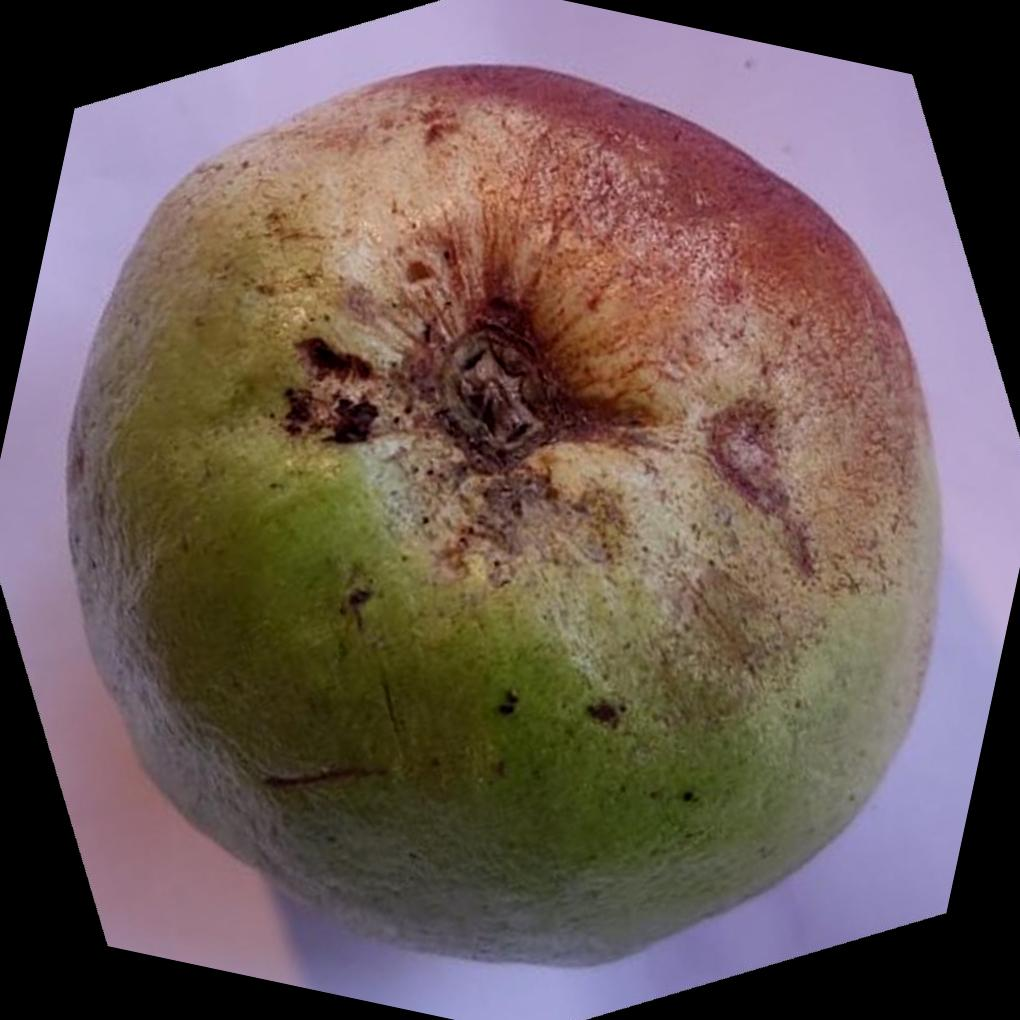FreshOrange: (64, 64, 943, 972)
